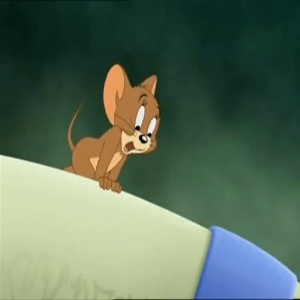Jerry: (98, 61, 173, 158)
